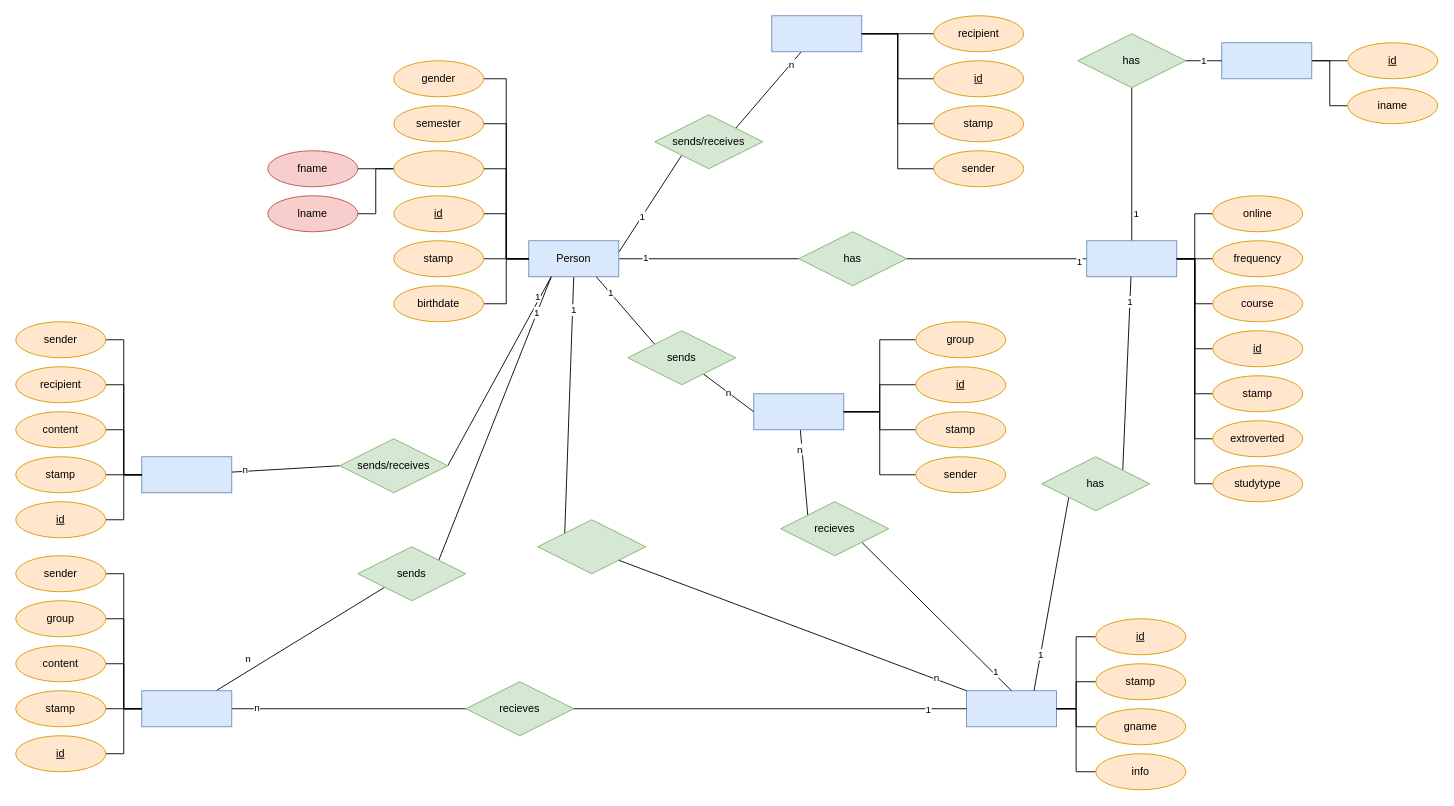
This 1454x806 diagram has some shape labels left out. Each missing label, with the centre of its shape:
Groupmessage: [186,708]
Grouprequest: [798,411]
Interests: [1266,60]
is part of: [591,546]
Message: [186,474]
name: [438,168]
Profile: [1131,258]
Request: [816,33]
Studygroup: [1011,708]
